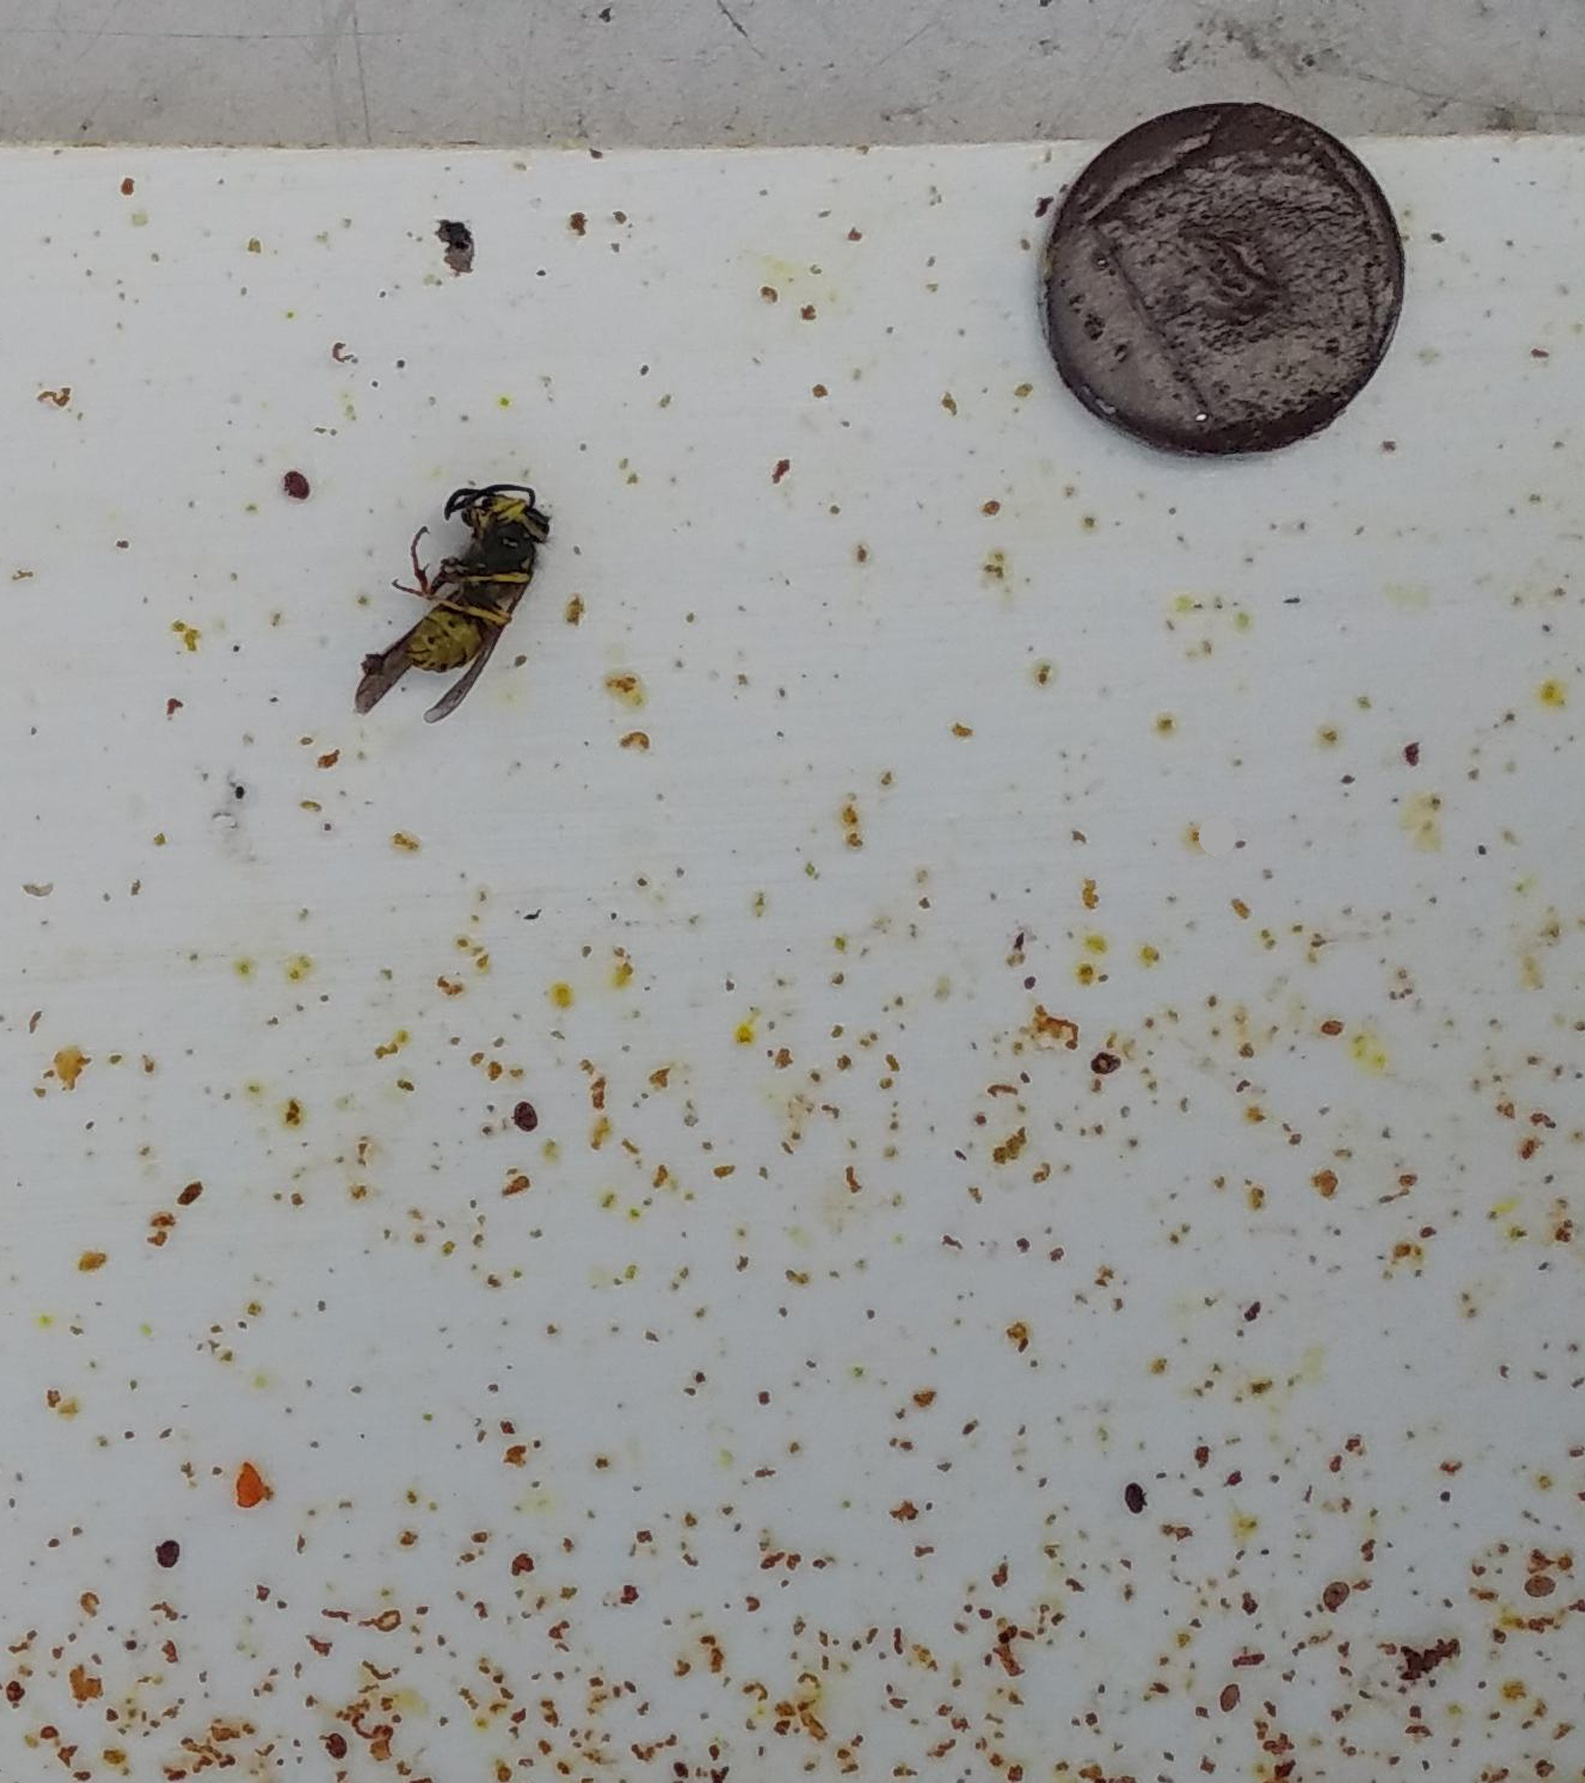Varroa: (1213, 1684, 1244, 1714), (282, 474, 312, 504), (153, 1534, 184, 1563), (321, 1726, 350, 1755), (1115, 1481, 1143, 1511), (1319, 1579, 1346, 1605), (1527, 1569, 1553, 1595), (520, 1099, 543, 1126), (1097, 1045, 1121, 1070)
